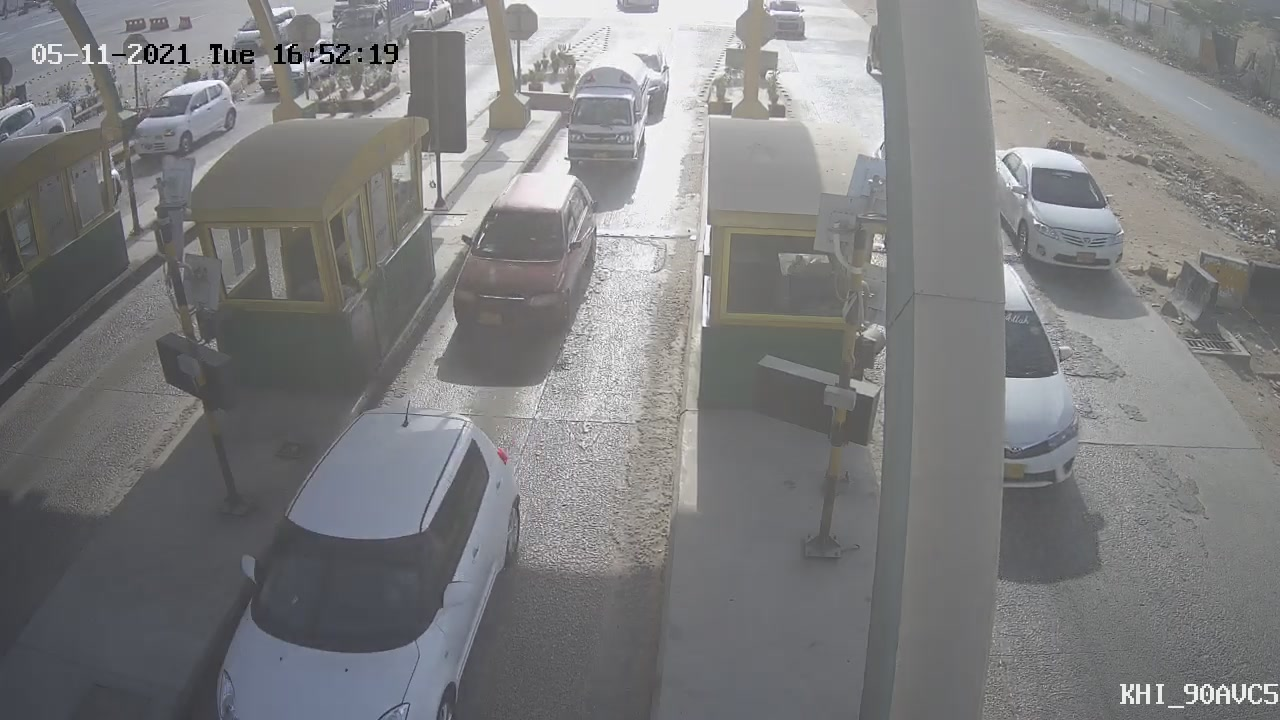F1: (441, 172, 600, 345), (551, 38, 666, 192)
